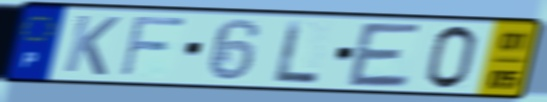0: (423, 23, 480, 90)
6: (206, 16, 262, 83)
E: (344, 20, 426, 90)
F: (116, 14, 191, 80)
K: (60, 12, 124, 78)
L: (272, 18, 322, 85)
